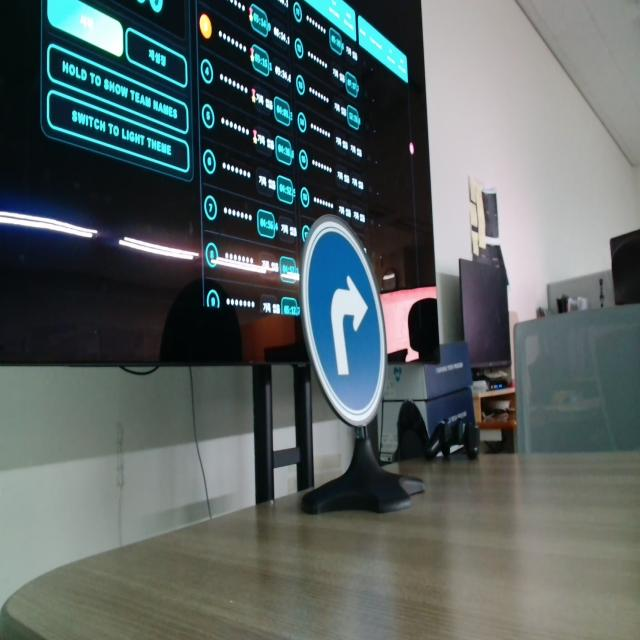right_dierection: (296, 211, 387, 435)
